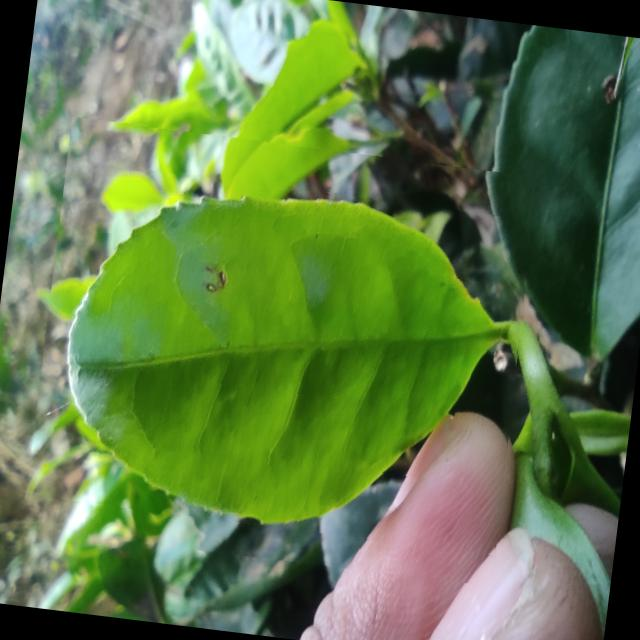Category C(4-7 days): (21, 115, 542, 585)
